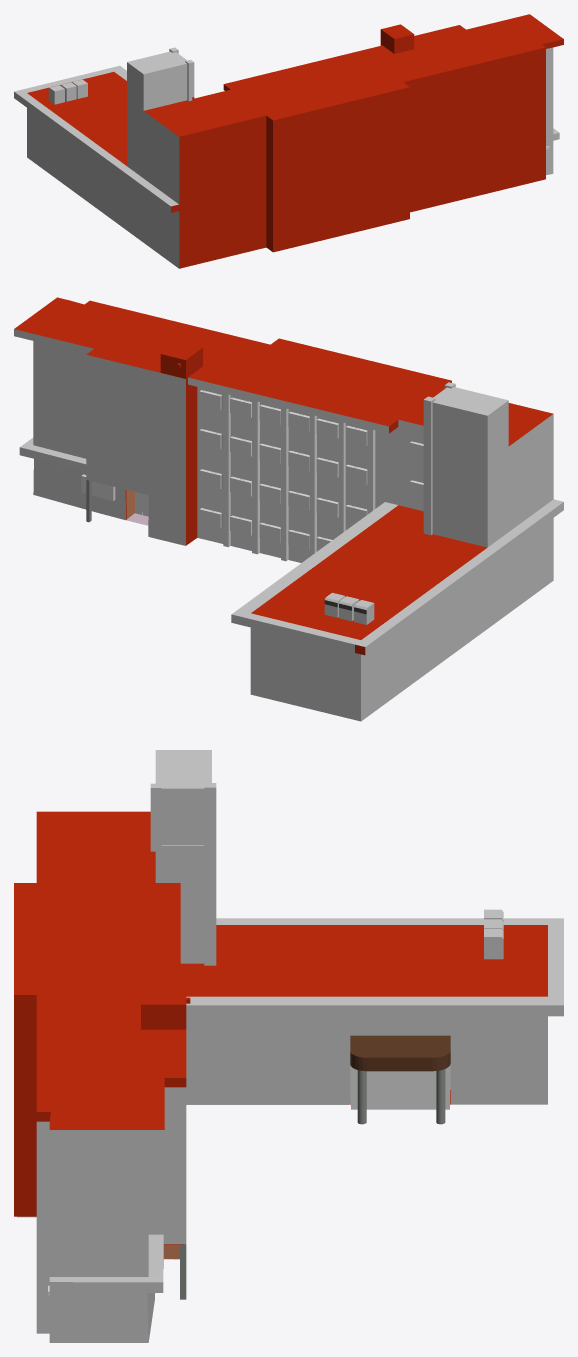
The model's file is kosen_1号館_26.fbx.
3 renders of one model, top to bottom at view 1: azimuth 30°, elevation 25°; view 2: azimuth 150°, elevation 25°; view 3: azimuth 270°, elevation 25°, orthographic. The views are drawn at different scales.
Parts seen in each view (by area): view 1: Cube; view 2: Cube; view 3: Cube, CTRL_Hole.002.
Part boxes in pixels (x1,y1,x2,y2): Cube: (14, 14, 563, 268); Cube: (14, 297, 563, 721); Cube: (14, 750, 563, 1342); CTRL_Hole.002: (351, 1066, 449, 1109).
Bounding box in the file's own units: 3731 × 1544 × 2667.
